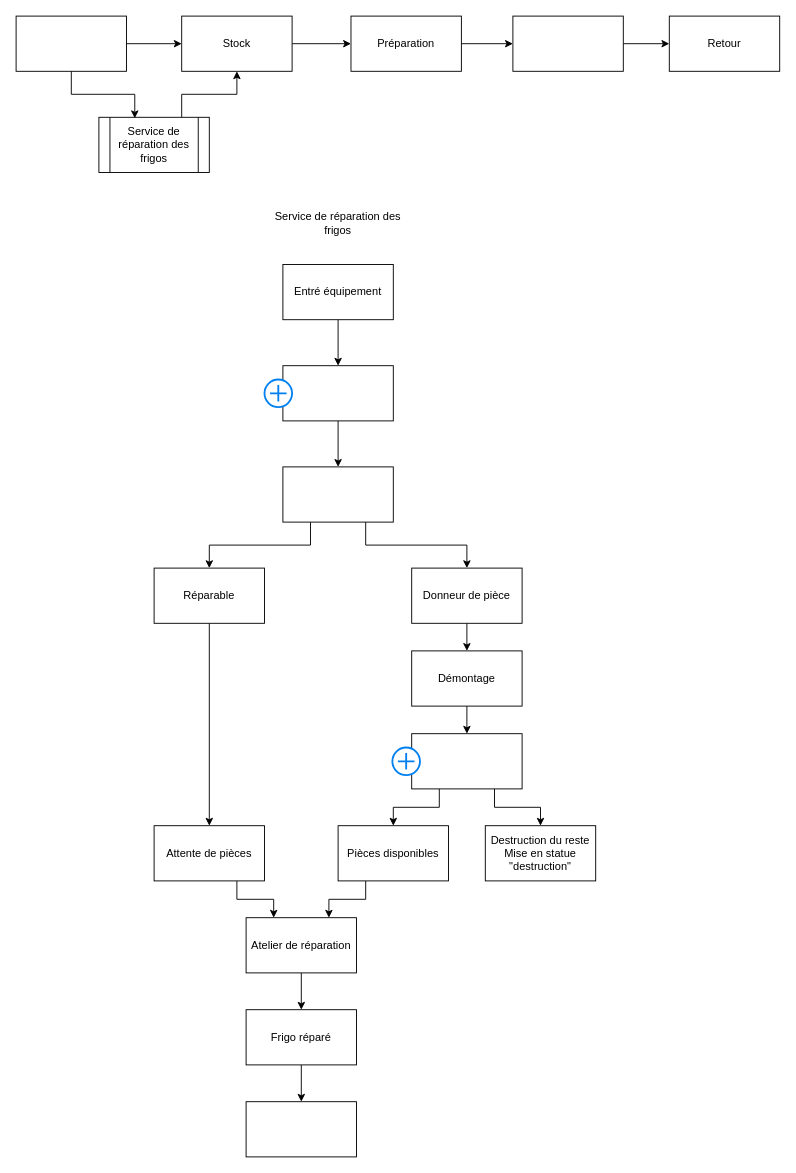
Image size: 796x1173. Some labels were removed from this diagram. The shapes that lost their labels are listed below. From the top down, each one's box as (x1, y1, x2, y2) in pixels, then its label:
(15, 15, 126, 71): Reception
(512, 15, 623, 71): Expédition
(282, 365, 393, 421): Stock frigos en attente
(282, 466, 393, 522): Diagnostic frigoriste
(411, 733, 522, 789): Stock pièces
(245, 1101, 356, 1157): Stock équipements prêts
